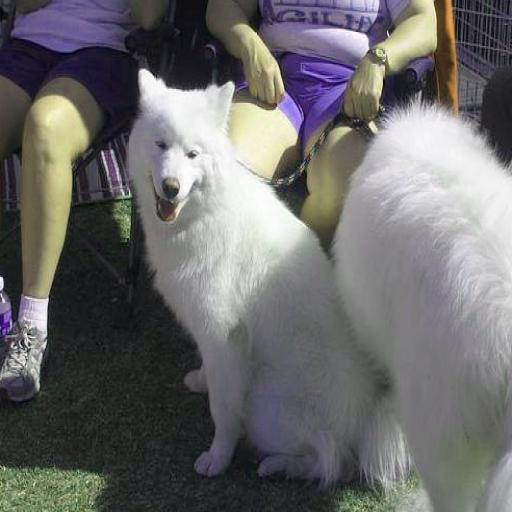dog_face: (135, 68, 230, 223)
